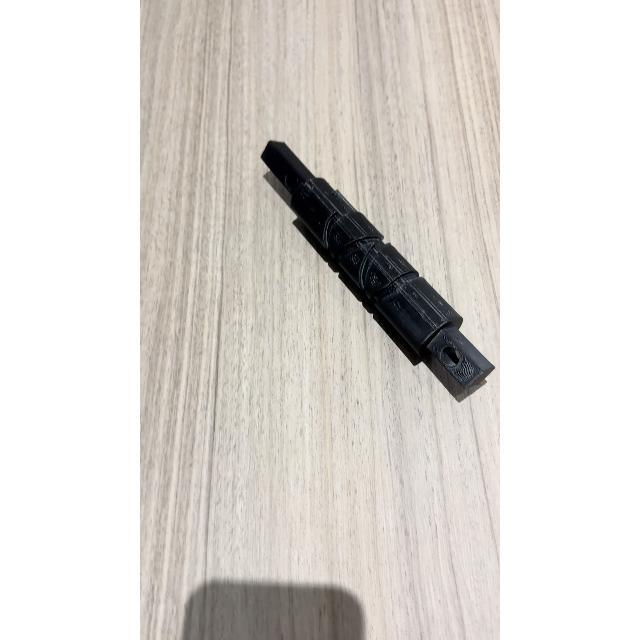Pieza1: (248, 128, 498, 412)
